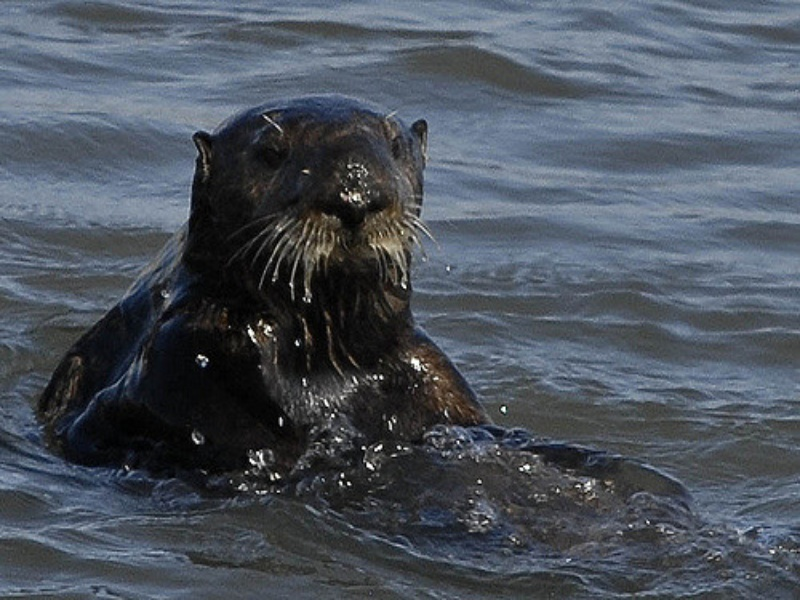minkish: (40, 94, 535, 495)
